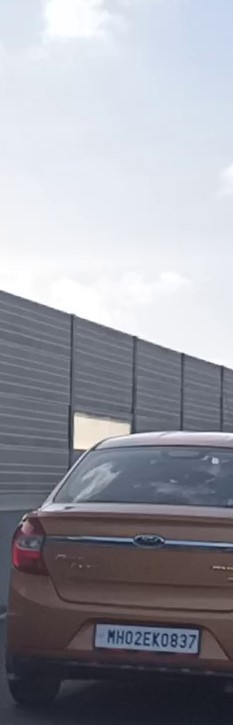MH02EK0837: (94, 620, 201, 658)
